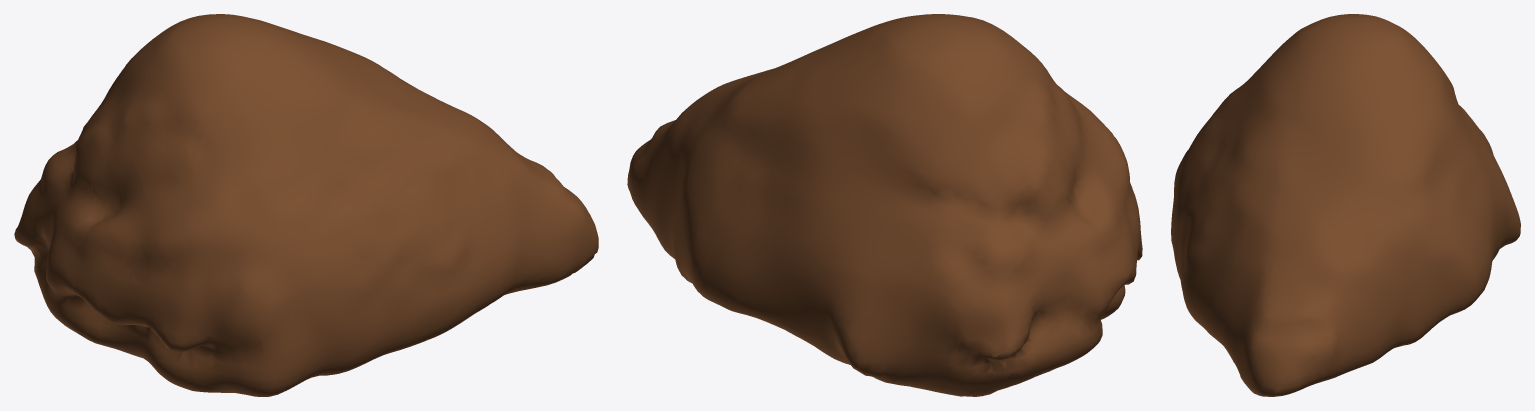
The model's file is blob.fbx.
3 renders of one model, left to right at view 1: azimuth 30°, elevation 25°; view 2: azimuth 150°, elevation 25°; view 3: azimuth 270°, elevation 25°, orthographic. The views are drawn at different scales.
Visible parts, largest first — view 1: Mball.019; view 2: Mball.019; view 3: Mball.019.
Part boxes in pixels (x1,y1,x2,y2): Mball.019: (14, 14, 598, 396); Mball.019: (627, 14, 1142, 396); Mball.019: (1171, 14, 1520, 396).
Size of the model in its own units: 537 by 307 by 375.
